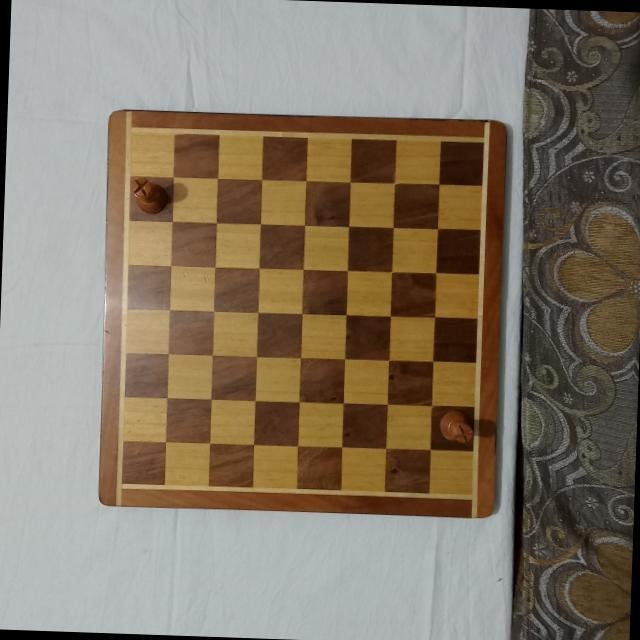white-rook: (127, 178, 168, 214), (436, 408, 474, 443)
